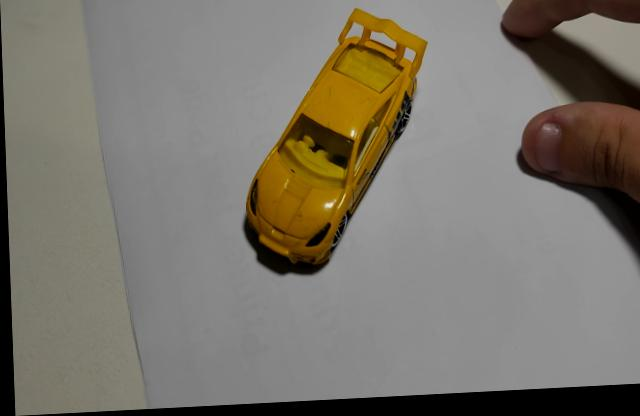07_RHLTURBO: (241, 13, 427, 279)
